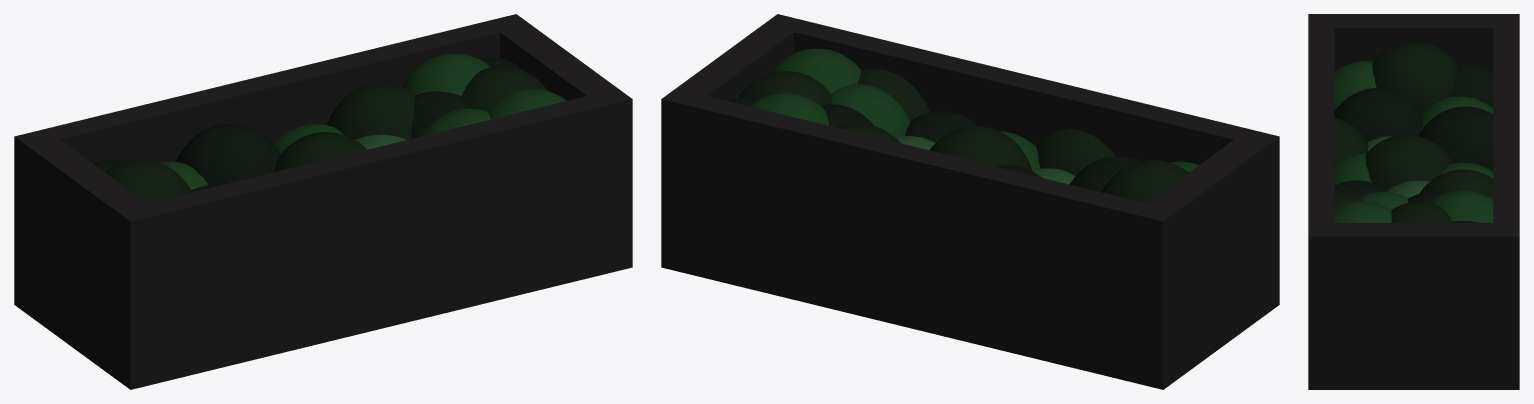
Rendered from flowerledge.obj.
The picture shows the model from 3 angles, left to right: view 1: azimuth 30°, elevation 25°; view 2: azimuth 150°, elevation 25°; view 3: azimuth 270°, elevation 25°; orthographic projection. The views are drawn at different scales.
Parts seen in each view (by area): view 1: pSphere22; view 2: pSphere22; view 3: pSphere22.
Boxes of the visible parts, <box> form: pSphere22: <box>14,14,632,389</box>; pSphere22: <box>661,14,1279,389</box>; pSphere22: <box>1308,14,1519,389</box>.
Bounding box in the file's own units: 10 × 3.21 × 4.01.
